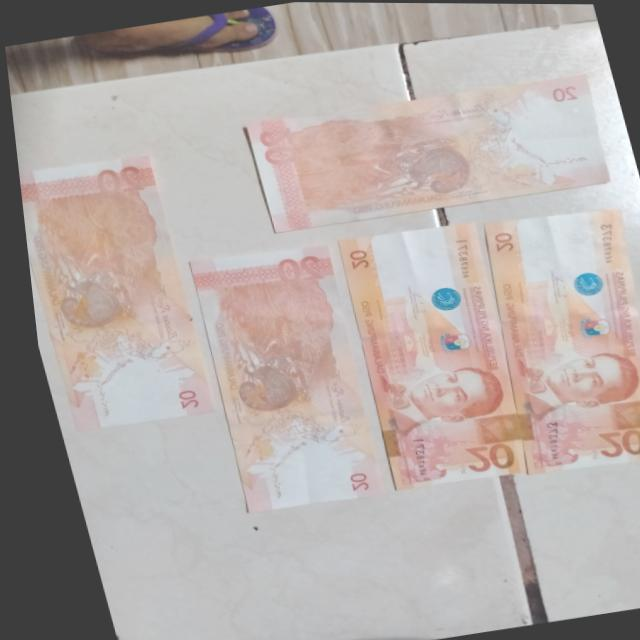concealed_value: (579, 392, 640, 437)
see_through_mark: (356, 240, 387, 290)
serial_number: (439, 234, 477, 284), (392, 435, 426, 480)
value: (450, 442, 505, 481)
value_watermark: (390, 236, 412, 250)
